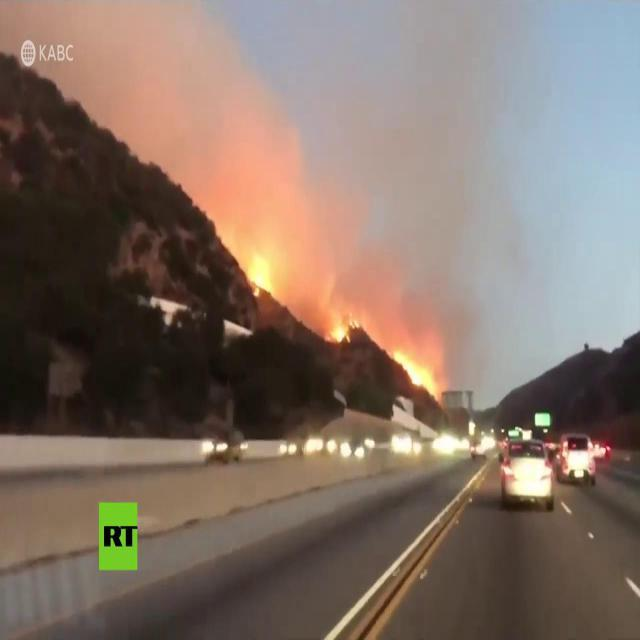Fire: (394, 351, 439, 394), (243, 246, 274, 294), (326, 310, 358, 343)
Smoke: (391, 0, 511, 336)
